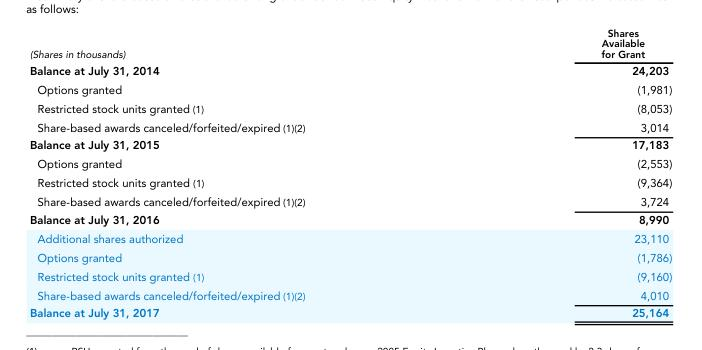table: (28, 28, 671, 319)
table column: (28, 28, 452, 319), (452, 28, 671, 319)
table column header: (28, 28, 671, 62)
table row: (28, 28, 671, 62), (28, 80, 671, 99), (28, 99, 671, 118), (28, 136, 671, 155), (28, 173, 671, 192), (28, 192, 671, 211), (28, 229, 671, 248), (28, 248, 671, 267), (28, 267, 671, 286), (28, 62, 671, 80), (28, 118, 671, 136), (28, 155, 671, 173), (28, 211, 671, 229), (28, 286, 671, 304), (28, 304, 671, 319)
